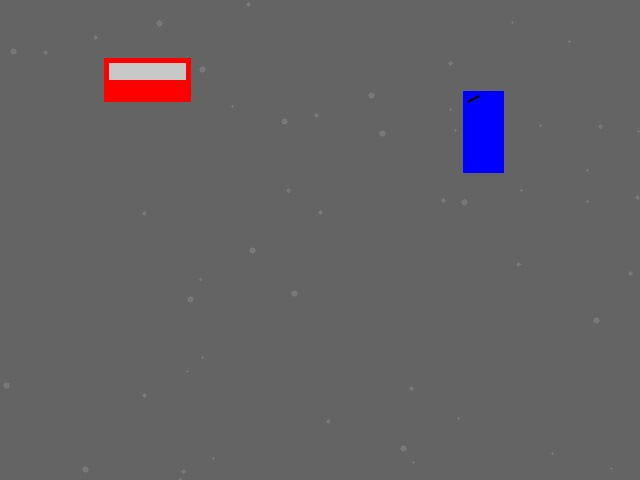car: (104, 58, 190, 101)
motorcycle: (463, 91, 503, 172)
